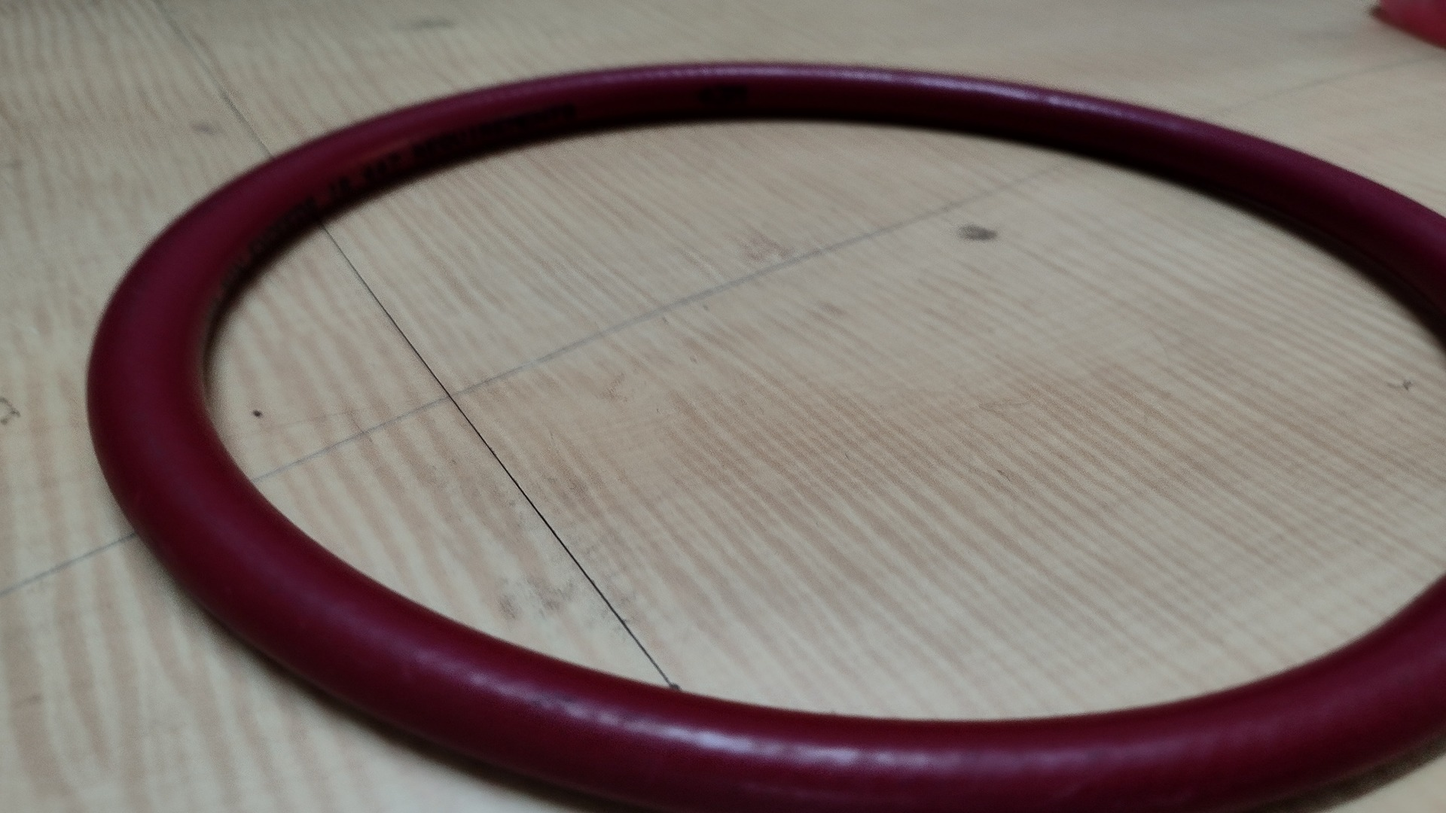Red ring: (89, 58, 1446, 813)
